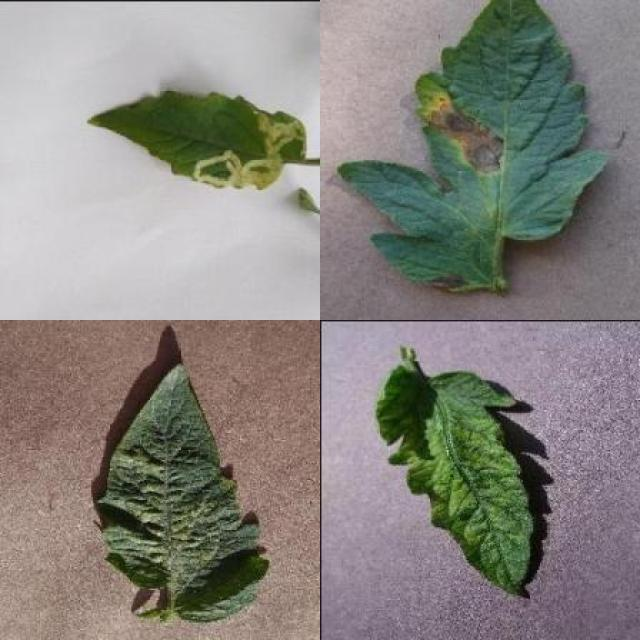Early Blight: (338, 0, 611, 294)
Leaf Miner: (90, 86, 307, 194)
Mosaic Virus: (373, 362, 533, 598)
Spider Mites: (96, 365, 271, 625)
